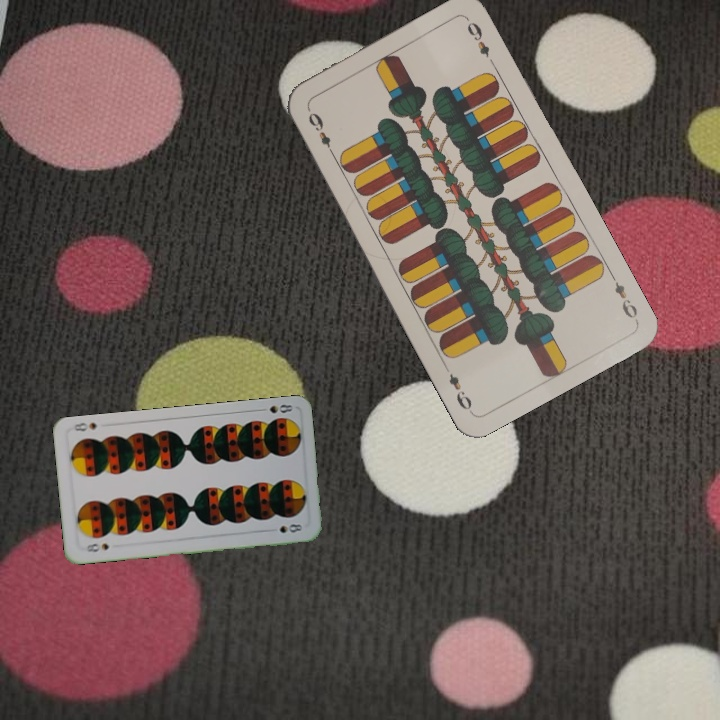E9: (606, 269, 641, 322), (304, 108, 338, 159)
S8: (255, 400, 295, 416), (79, 539, 111, 555)
